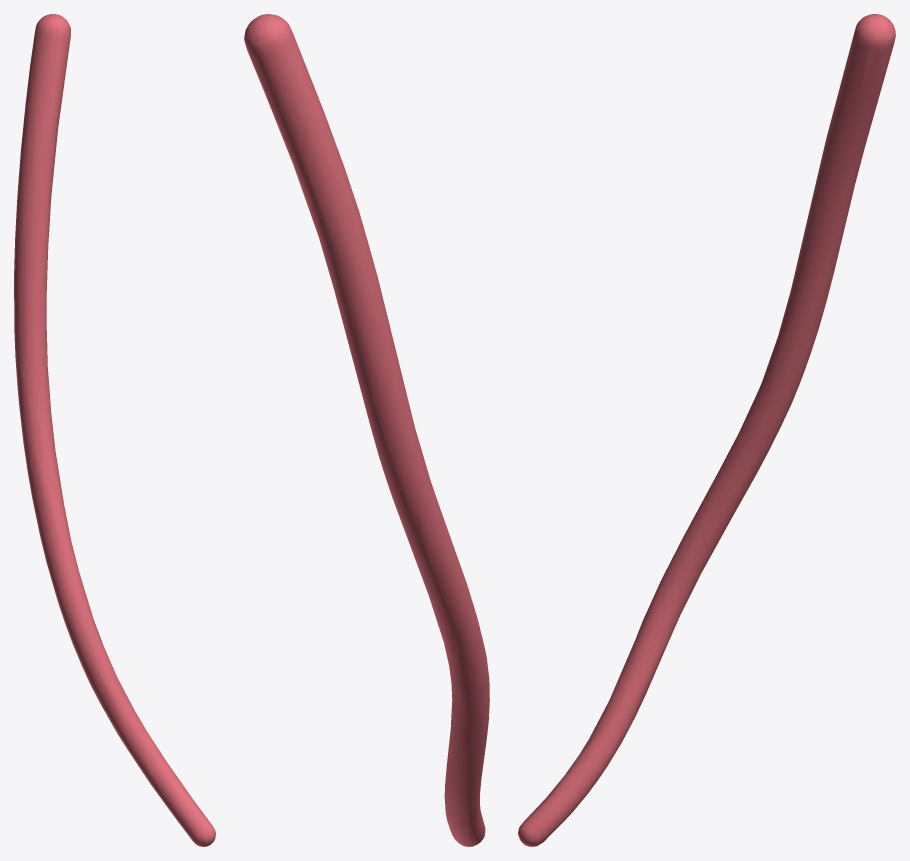
Rendered from fma268667_fj2297.glb.
3 renders of one model, left to right at view 1: azimuth 30°, elevation 25°; view 2: azimuth 150°, elevation 25°; view 3: azimuth 270°, elevation 25°, orthographic. The views are drawn at different scales.
Parts seen in each view (by area): view 1: FMA268667_FJ2297; view 2: FMA268667_FJ2297; view 3: FMA268667_FJ2297.
Boxes of the visible parts, <box> form: FMA268667_FJ2297: <box>14,14,215,846</box>; FMA268667_FJ2297: <box>244,14,489,846</box>; FMA268667_FJ2297: <box>518,14,895,846</box>.
Bounding box in the file's own units: 0.00765 × 0.0566 × 0.0233.
